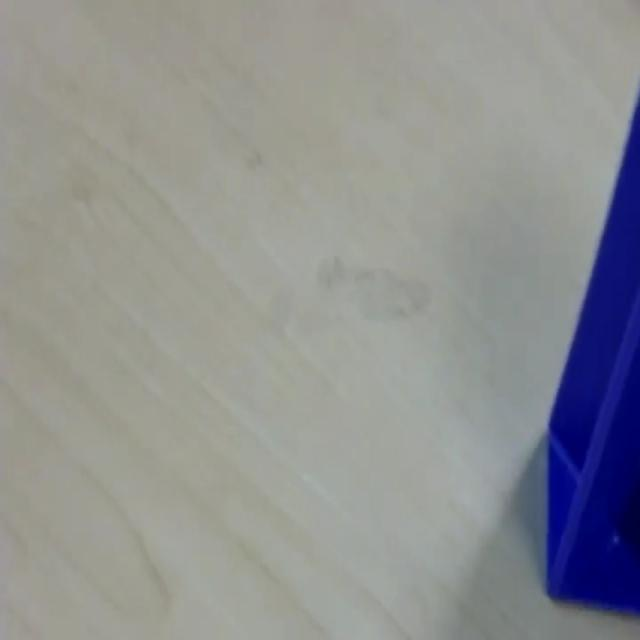blue_block: (543, 80, 639, 615)
